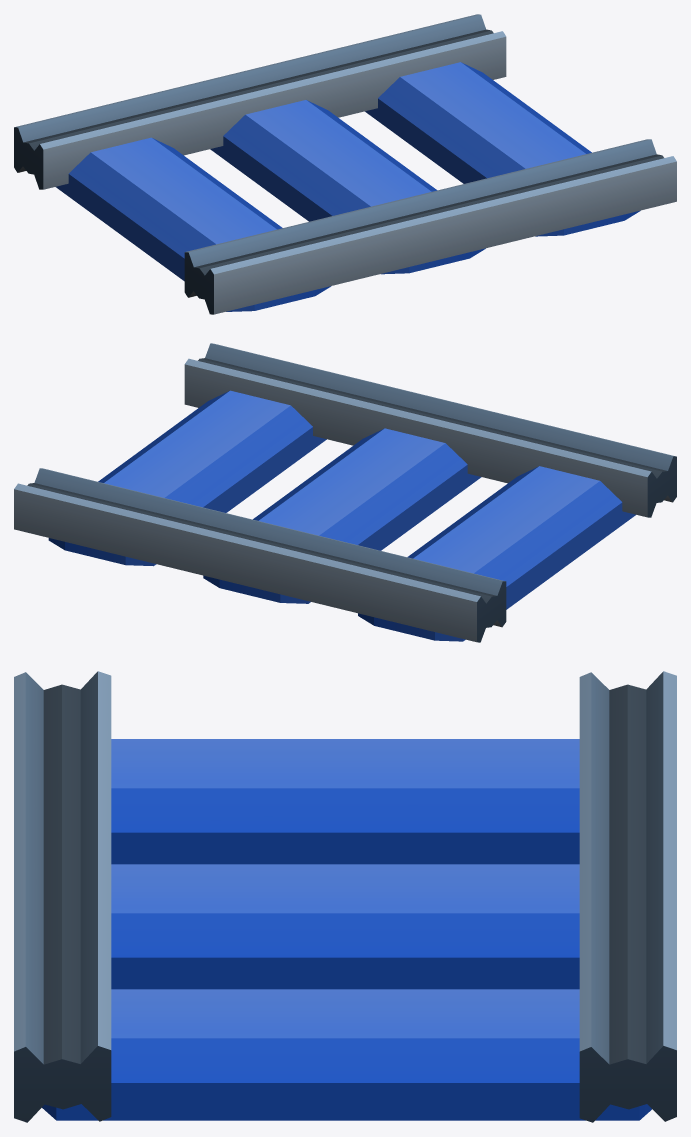
The model's file is 1br-duzray.fbx.
The picture shows the model from 3 angles, top to bottom: view 1: azimuth 30°, elevation 25°; view 2: azimuth 150°, elevation 25°; view 3: azimuth 270°, elevation 25°; orthographic projection. The views are drawn at different scales.
Parts seen in each view (by area): view 1: 1br-Duz_1; view 2: 1br-Duz_1; view 3: 1br-Duz_1.
Part boxes in pixels (box(x1,y1,x2,y2)): 1br-Duz_1: box(14, 14, 676, 314); 1br-Duz_1: box(14, 343, 676, 642); 1br-Duz_1: box(14, 671, 676, 1122).
Size of the model in its own units: 200 by 23.37 by 150.
